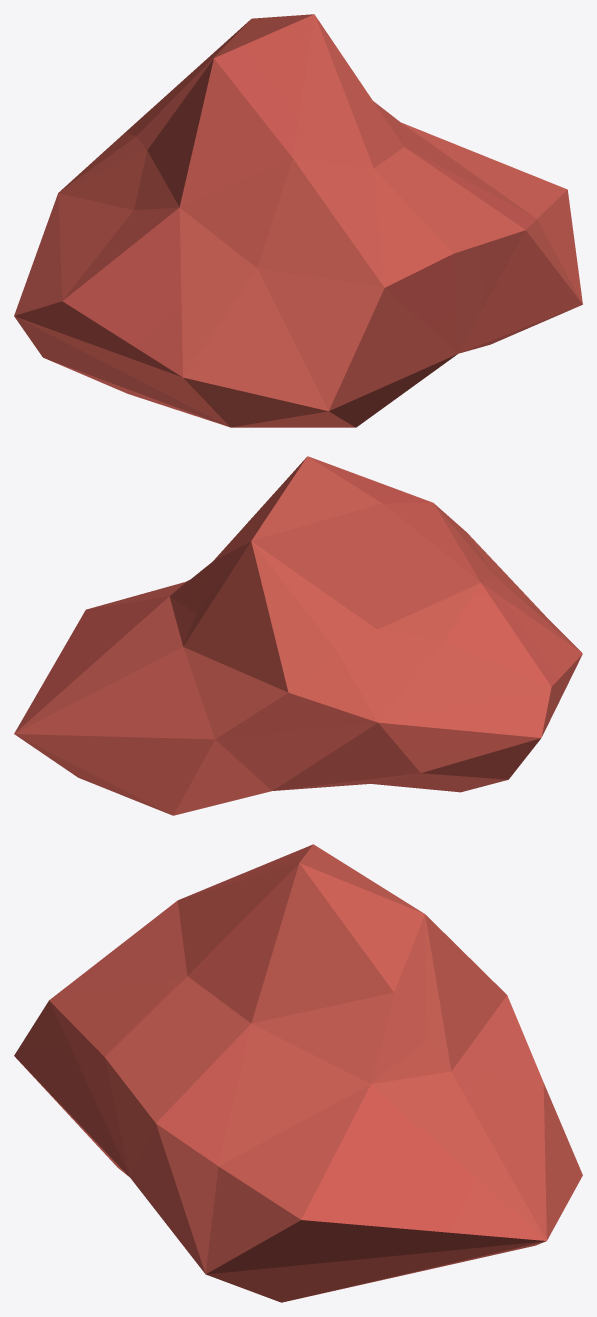
Rendered from redrock1.fbx.
3 views of the same model, one above another, from view 1: azimuth 30°, elevation 25°; view 2: azimuth 150°, elevation 25°; view 3: azimuth 270°, elevation 25° (orthographic). The views are drawn at different scales.
Visible parts, largest first — view 1: rock.013; view 2: rock.013; view 3: rock.013.
Boxes of the visible parts, box(x1,y1,x2,y2) form: rock.013: box(14, 14, 582, 427); rock.013: box(14, 456, 582, 815); rock.013: box(14, 844, 582, 1302).
Bounding box in the file's own units: 238 × 154 × 221.
